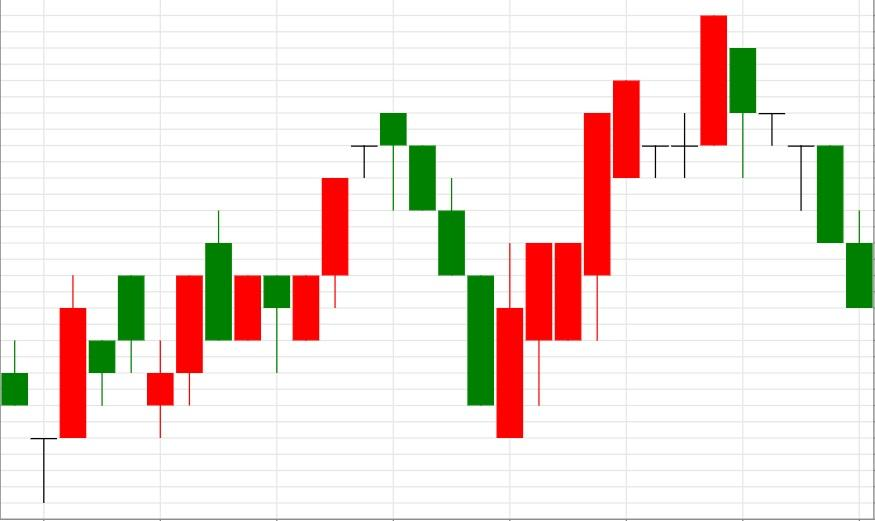hanging_man_fall: (147, 112, 408, 438)
three_black_crows_fall: (147, 112, 466, 439)
